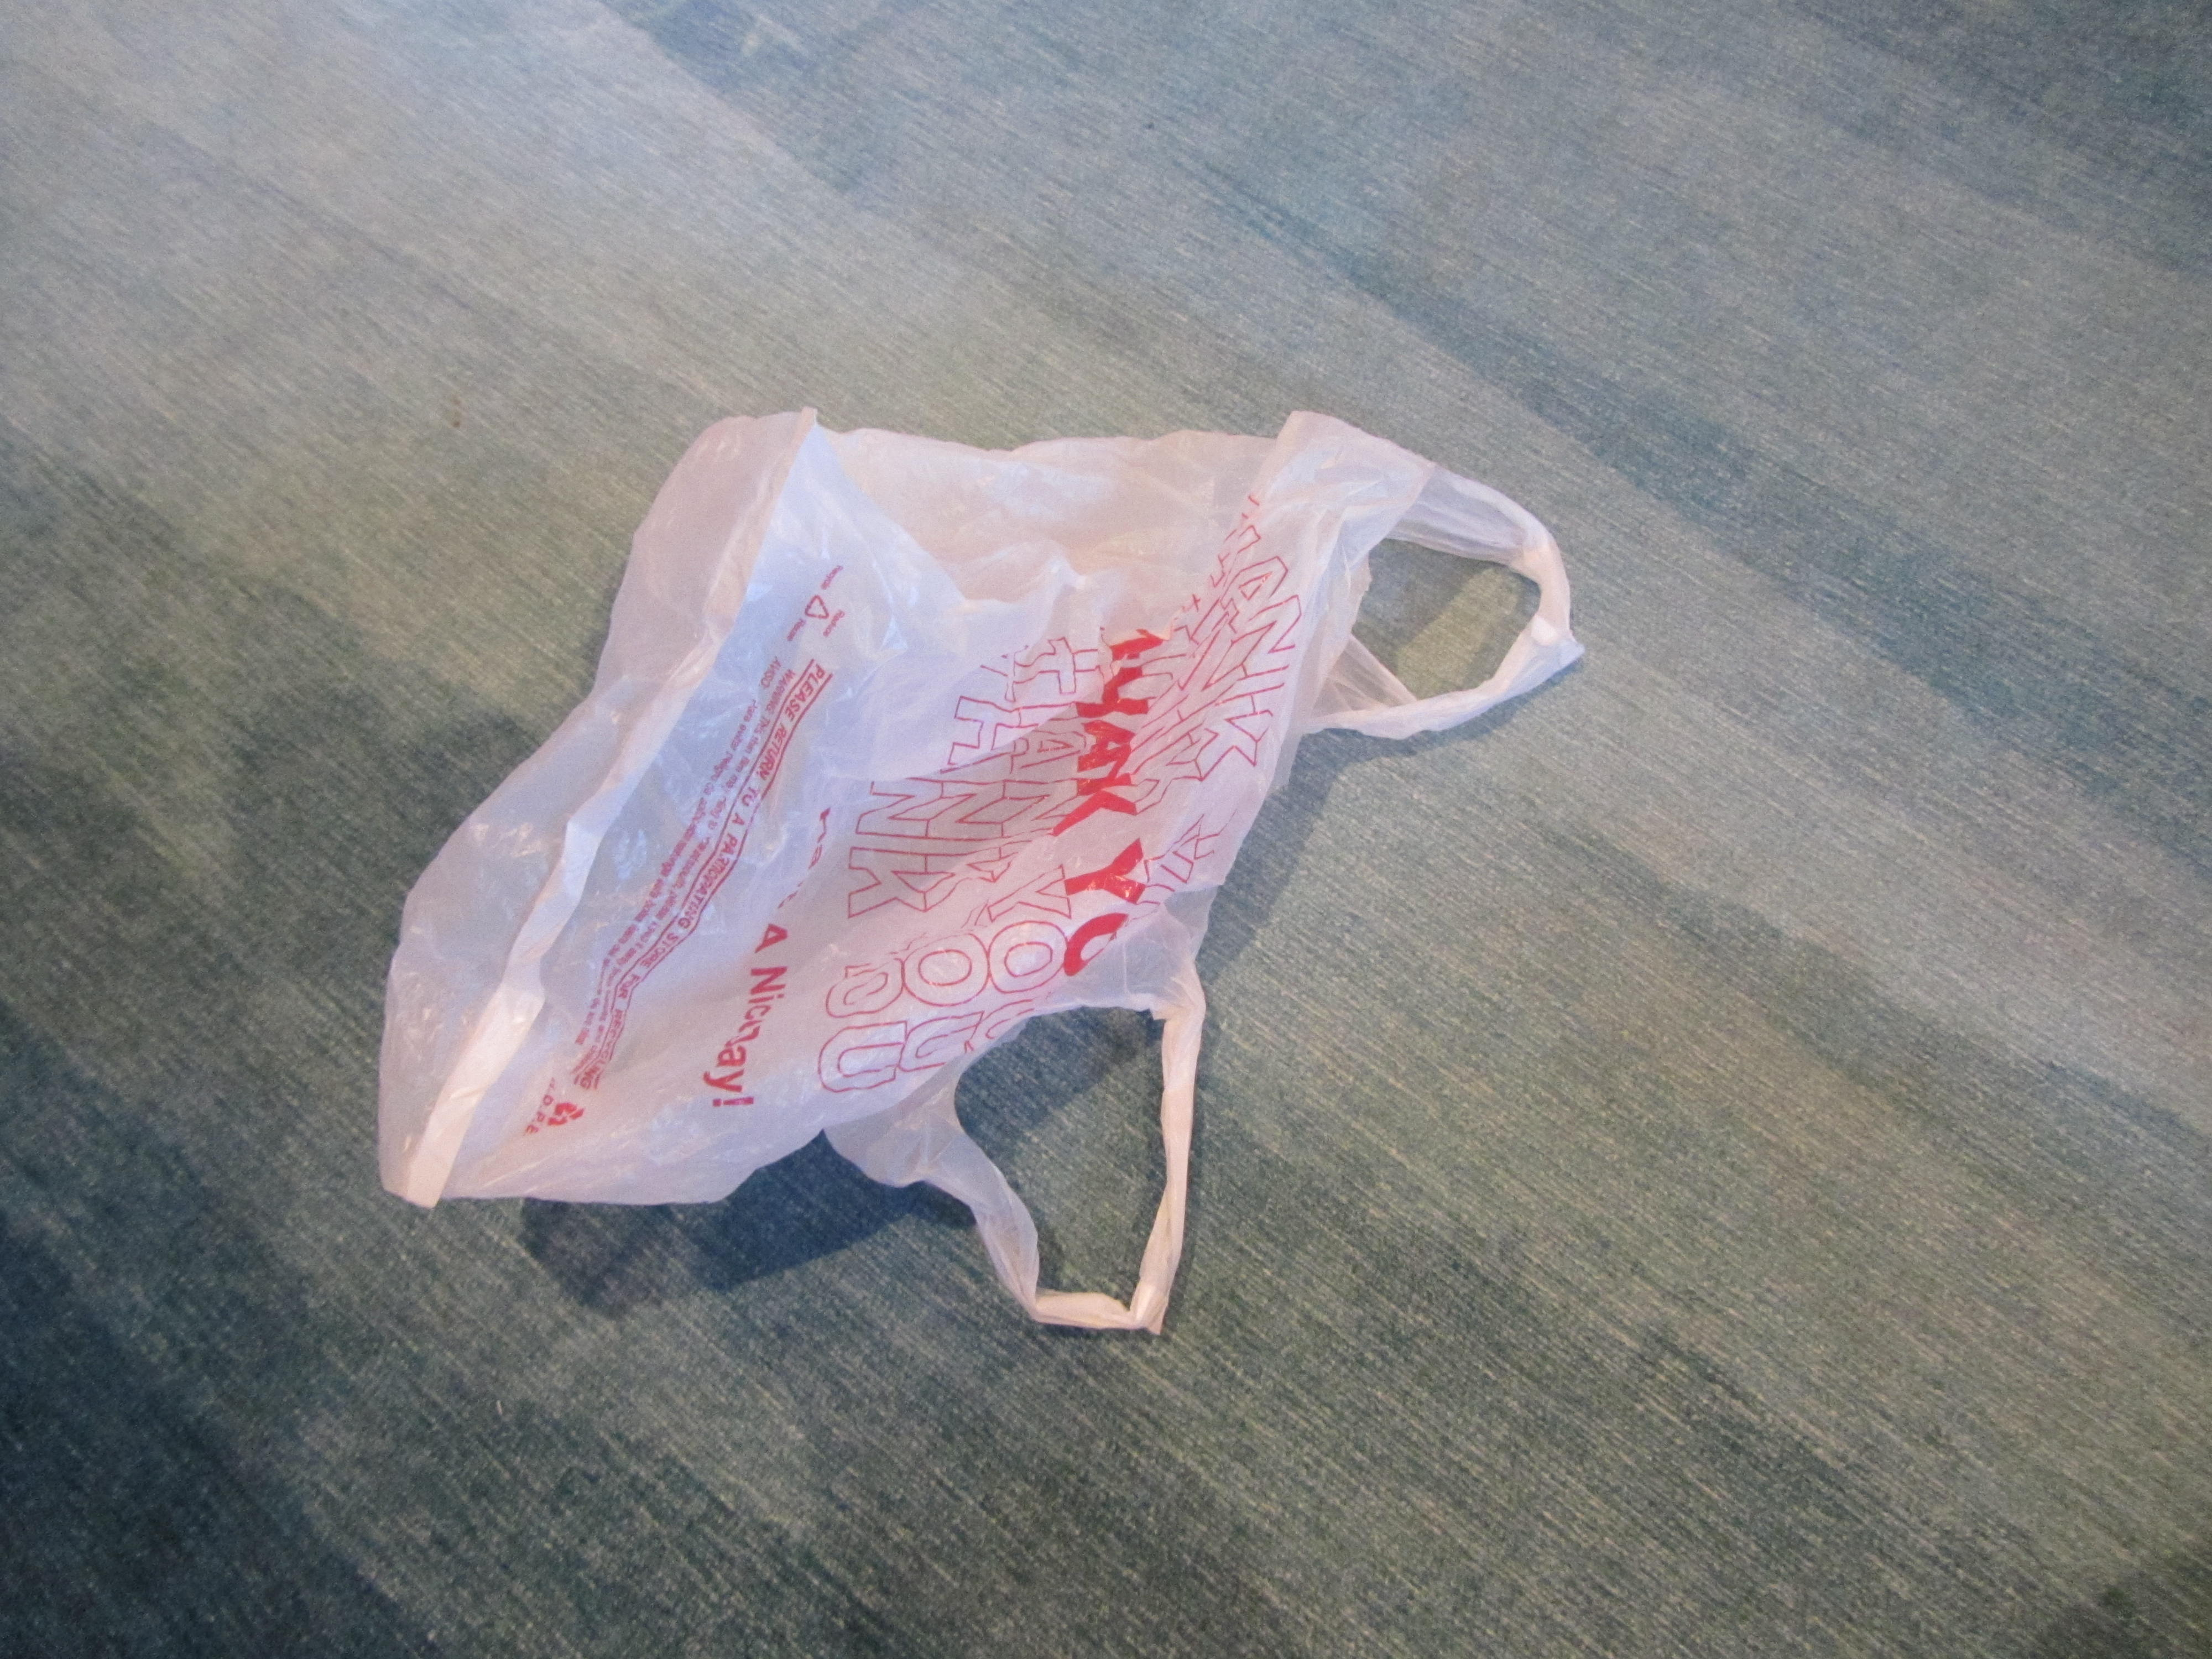plastic_bag: (369, 397, 1599, 1338)
